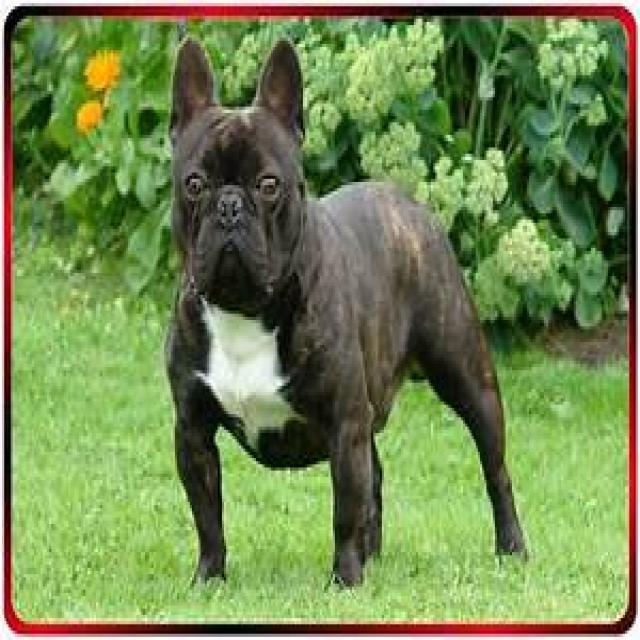KOPEK: (154, 36, 530, 579)
